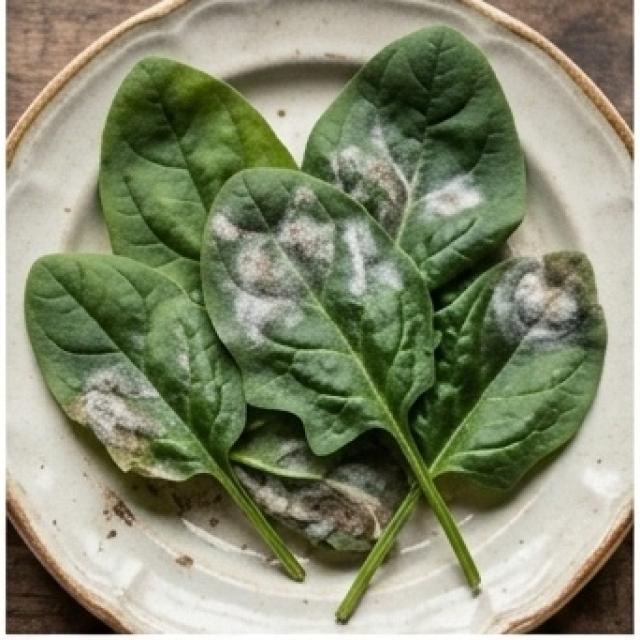rotten spinach: (23, 12, 626, 622), (181, 159, 486, 541), (23, 228, 267, 530), (306, 13, 534, 324), (408, 244, 624, 556)
